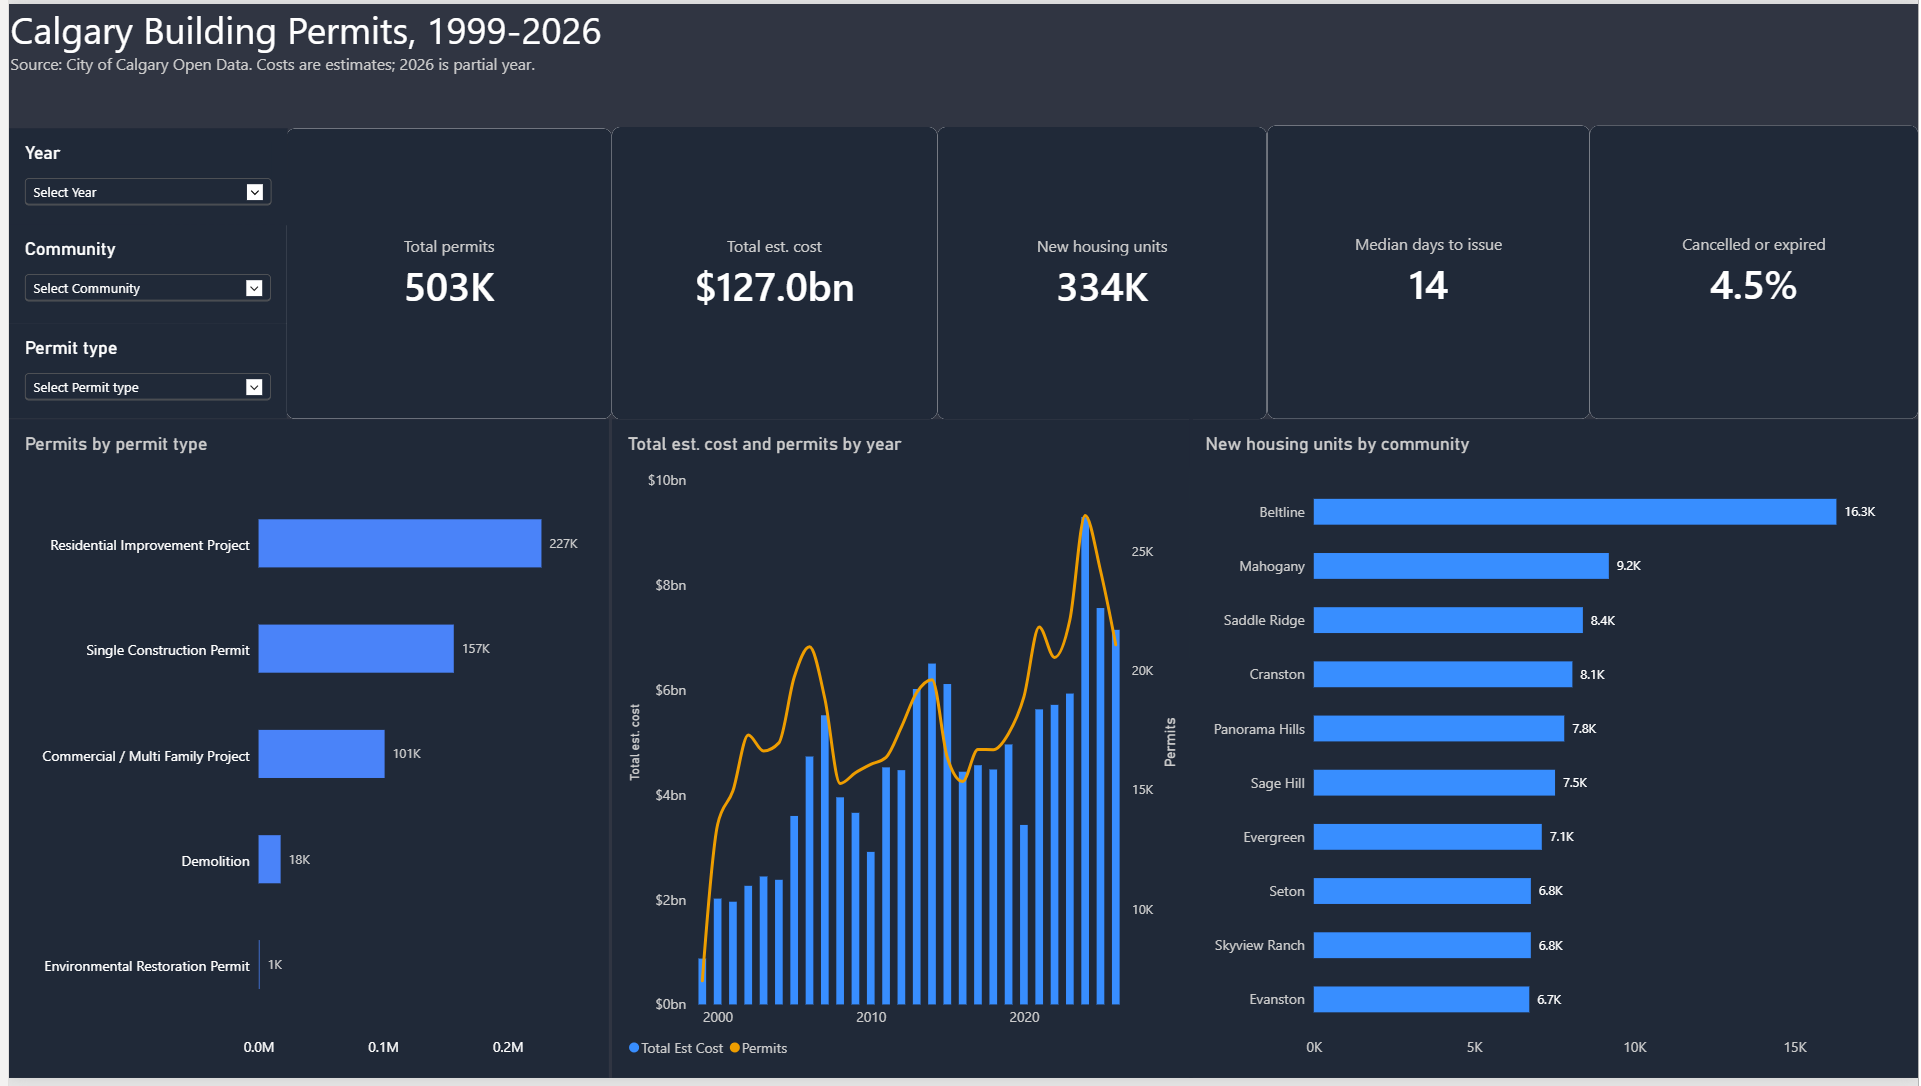

The dashboard page shown, as its layout file describes it:
{"tool":"powerbi","page":{"name":"Overview","canvas":[1920,1080],"ordinal":0},"visuals":[{"type":"cardVisual","fields":{"Data":["Permits.Permits"]},"box":[279.1,125.2,327.4,292.7],"z":0},{"type":"cardVisual","fields":{"Data":["Permits.Total Est Cost"]},"box":[606.5,123.7,327.4,294.2],"z":1000},{"type":"cardVisual","fields":{"Data":["Permits.New Housing Units"]},"box":[933.9,123.7,331.9,294.2],"z":2000},{"type":"cardVisual","fields":{"Data":["Permits.Median Days To Issue"]},"box":[1265.8,122.2,324.4,295.7],"z":3000},{"type":"cardVisual","fields":{"Data":["Permits.Cancel Expire Rate %"]},"box":[1590.1,122.2,330.4,295.7],"z":4000},{"type":"listSlicer","fields":{"Values":["Calendar.Year"]},"box":[0,125.2,279.8,97.3],"z":5000},{"type":"listSlicer","fields":{"Values":["Permits.PermitType"]},"box":[0,321.3,279.1,95],"z":6000},{"type":"listSlicer","fields":{"Values":["Permits.CommunityName"]},"box":[0,221.8,279.1,99.6],"z":7000},{"type":"clusteredBarChart","title":"Permits by permit type","fields":{"Category":["Permits.PermitType"],"Y":["Permits.Permits"]},"box":[0,417.9,603.5,662.3],"z":8000},{"type":"lineClusteredColumnComboChart","title":"Total est. cost and permits by year","fields":{"Category":["Calendar.Year"],"Y":["Permits.Total Est Cost"],"Y2":["Permits.Permits"]},"box":[606.5,417.9,583.8,662.3],"z":9000},{"type":"barChart","title":"New housing units by community","fields":{"Category":["Permits.CommunityName"],"Y":["Permits.New Housing Units"]},"box":[1187.3,417.9,733.2,662.3],"z":10000},{"type":"textbox","box":[1.5,0,1919,120.7],"z":11000}]}

Visuals, with their boxes in screenshot pixels (x1, y1, x2, y2), scaled from the page's 1920x1080 canvas onto the 1921x1086 screenshot:
cardVisual - Permits.Permits: <region>279, 126, 607, 420</region>
cardVisual - Permits.Total Est Cost: <region>607, 124, 934, 420</region>
cardVisual - Permits.New Housing Units: <region>934, 124, 1266, 420</region>
cardVisual - Permits.Median Days To Issue: <region>1266, 123, 1591, 420</region>
cardVisual - Permits.Cancel Expire Rate %: <region>1591, 123, 1920, 420</region>
listSlicer - Calendar.Year: <region>0, 126, 280, 224</region>
listSlicer - Permits.PermitType: <region>0, 323, 279, 419</region>
listSlicer - Permits.CommunityName: <region>0, 223, 279, 323</region>
"Permits by permit type" clusteredBarChart: <region>0, 420, 604, 1085</region>
"Total est. cost and permits by year" lineClusteredColumnComboChart: <region>607, 420, 1191, 1085</region>
"New housing units by community" barChart: <region>1188, 420, 1920, 1085</region>
textbox: <region>2, 0, 1920, 121</region>
